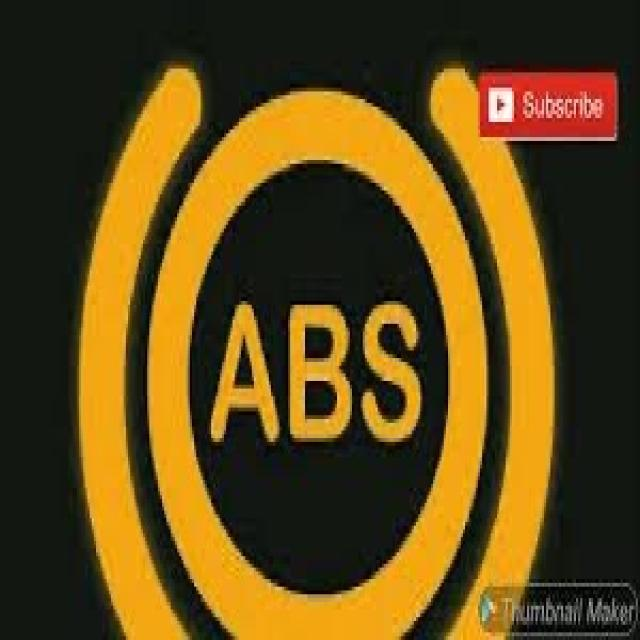kontrolka: (61, 43, 565, 636)
